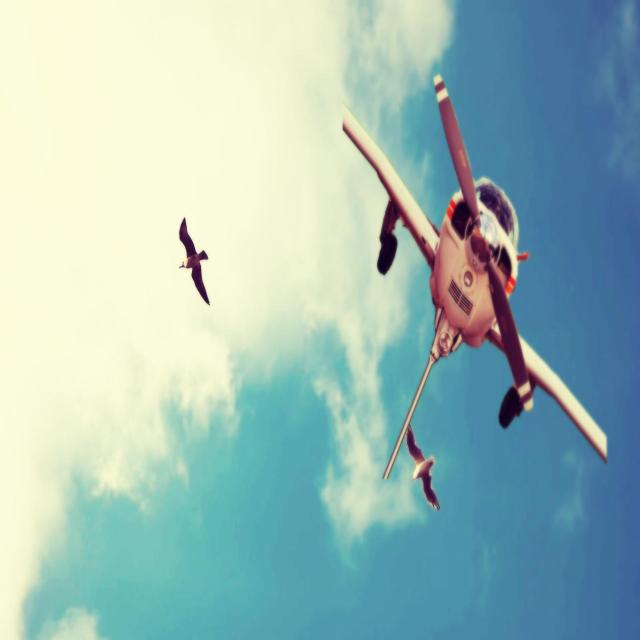airplane: (341, 72, 608, 508)
